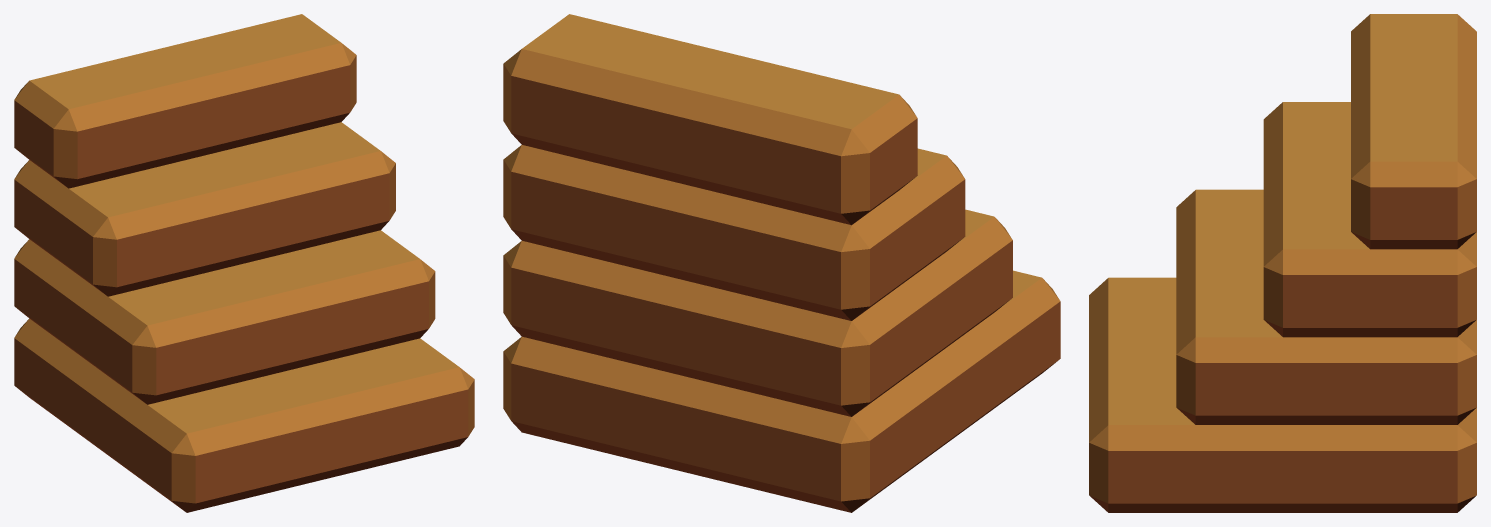
Rendered from m_kub_wood_stairs_piled.FBX.
3 renders of one model, left to right at view 1: azimuth 30°, elevation 25°; view 2: azimuth 150°, elevation 25°; view 3: azimuth 270°, elevation 25°, orthographic. The views are drawn at different scales.
Visible parts, largest first — view 1: m_kub_wood_stairs_piled; view 2: m_kub_wood_stairs_piled; view 3: m_kub_wood_stairs_piled.
Part boxes in pixels (bbox=[...]): m_kub_wood_stairs_piled: bbox=[14, 14, 474, 512]; m_kub_wood_stairs_piled: bbox=[503, 14, 1060, 512]; m_kub_wood_stairs_piled: bbox=[1089, 14, 1476, 512].
Bounding box in the file's own units: 2 × 2 × 2.
